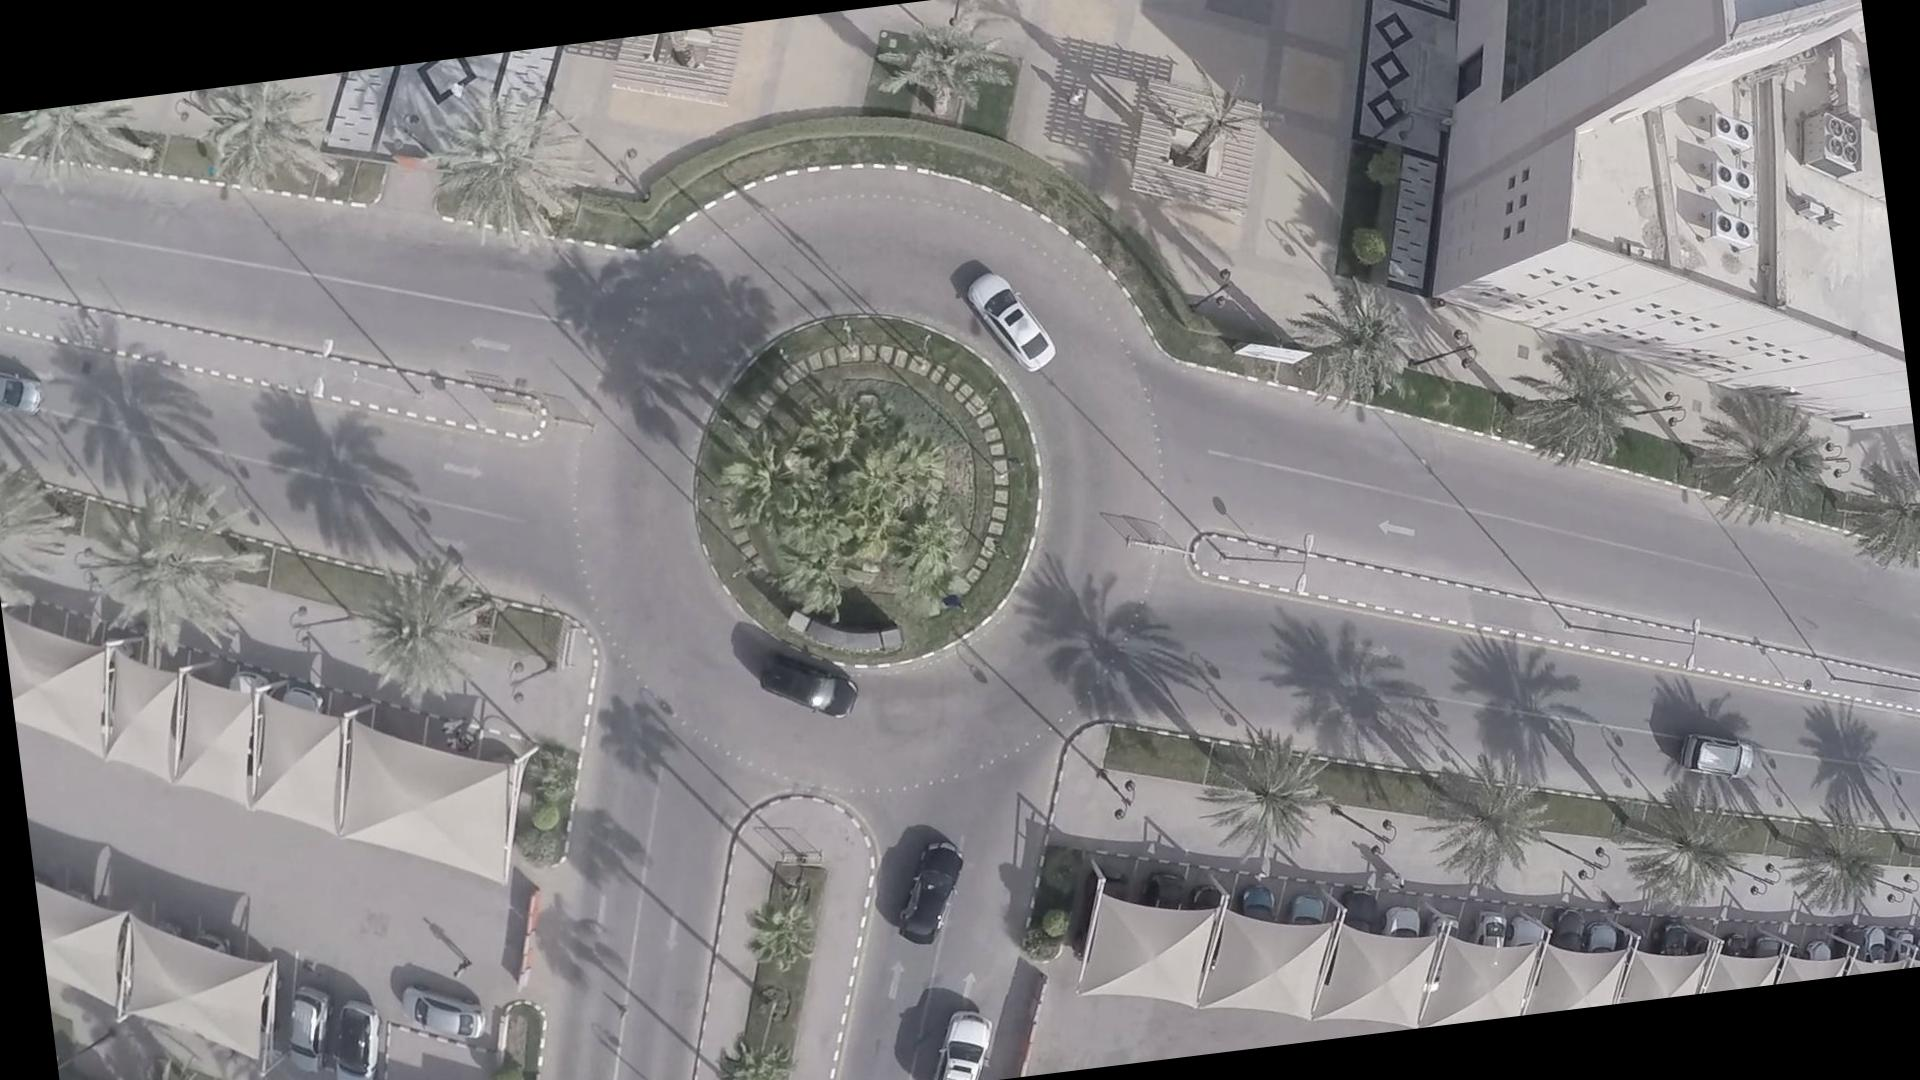vehicle: (886, 824, 972, 964), (736, 647, 852, 745), (971, 266, 1063, 369), (1656, 711, 1764, 787), (0, 368, 58, 433)
